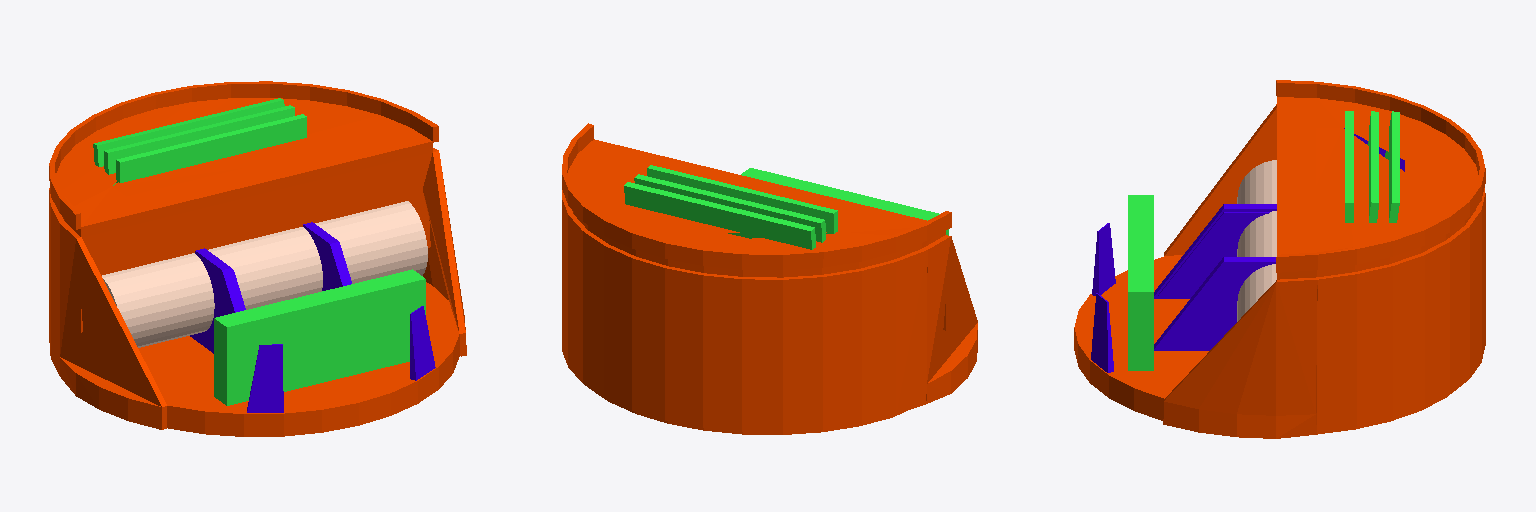
File: 1801-moneymachine_5.obj
3 views of the same model, side by side, from view 1: azimuth 30°, elevation 25°; view 2: azimuth 150°, elevation 25°; view 3: azimuth 270°, elevation 25° (orthographic).
Parts seen in each view (by area): view 1: Circle.003_Material.016, Circle.003_Material.002, Circle.003_Material.015, Circle.003_Material.001; view 2: Circle.003_Material.016, Circle.003_Material.002; view 3: Circle.003_Material.016, Circle.003_Material.001, Circle.003_Material.002, Circle.003_Material.015.
Boxes of the visible parts, box(x1,y1,x2,y2) form: Circle.003_Material.016: box(49, 81, 466, 436); Circle.003_Material.002: box(93, 98, 425, 405); Circle.003_Material.015: box(102, 201, 427, 347); Circle.003_Material.001: box(190, 222, 435, 412); Circle.003_Material.016: box(562, 123, 977, 434); Circle.003_Material.002: box(624, 165, 948, 249); Circle.003_Material.016: box(1074, 80, 1485, 438); Circle.003_Material.001: box(1091, 128, 1404, 372); Circle.003_Material.002: box(1128, 111, 1399, 370); Circle.003_Material.015: box(1237, 160, 1276, 321).
Bounding box in the file's own units: 17.46 × 8.66 × 17.04.